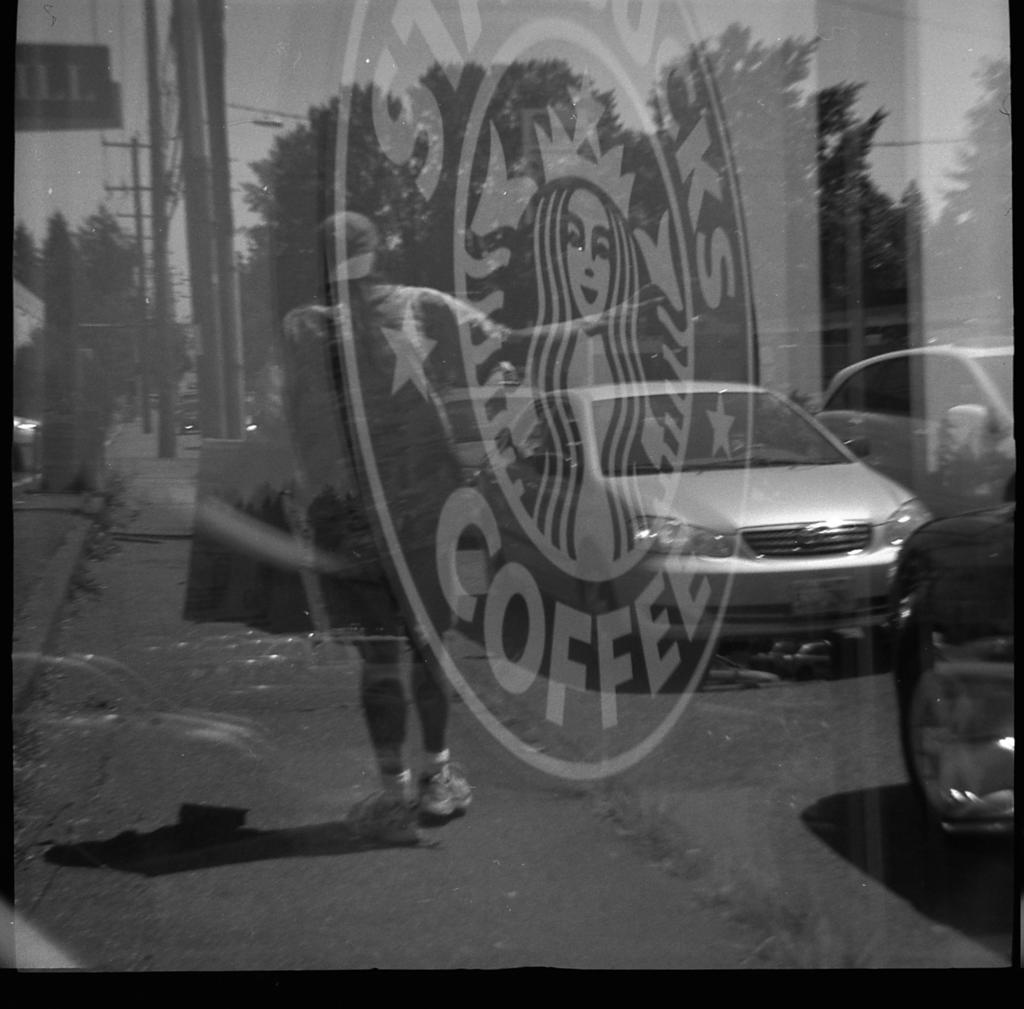Car: (451, 376, 933, 686), (812, 336, 1017, 517)
